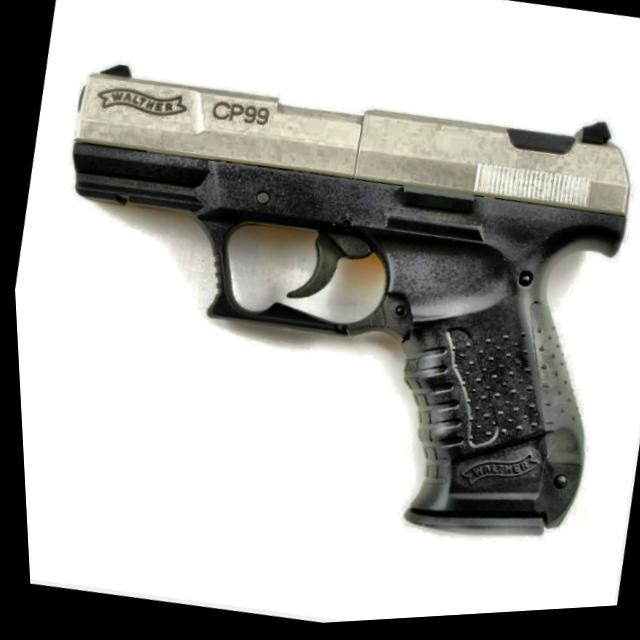pistol: (2, 26, 640, 583)
